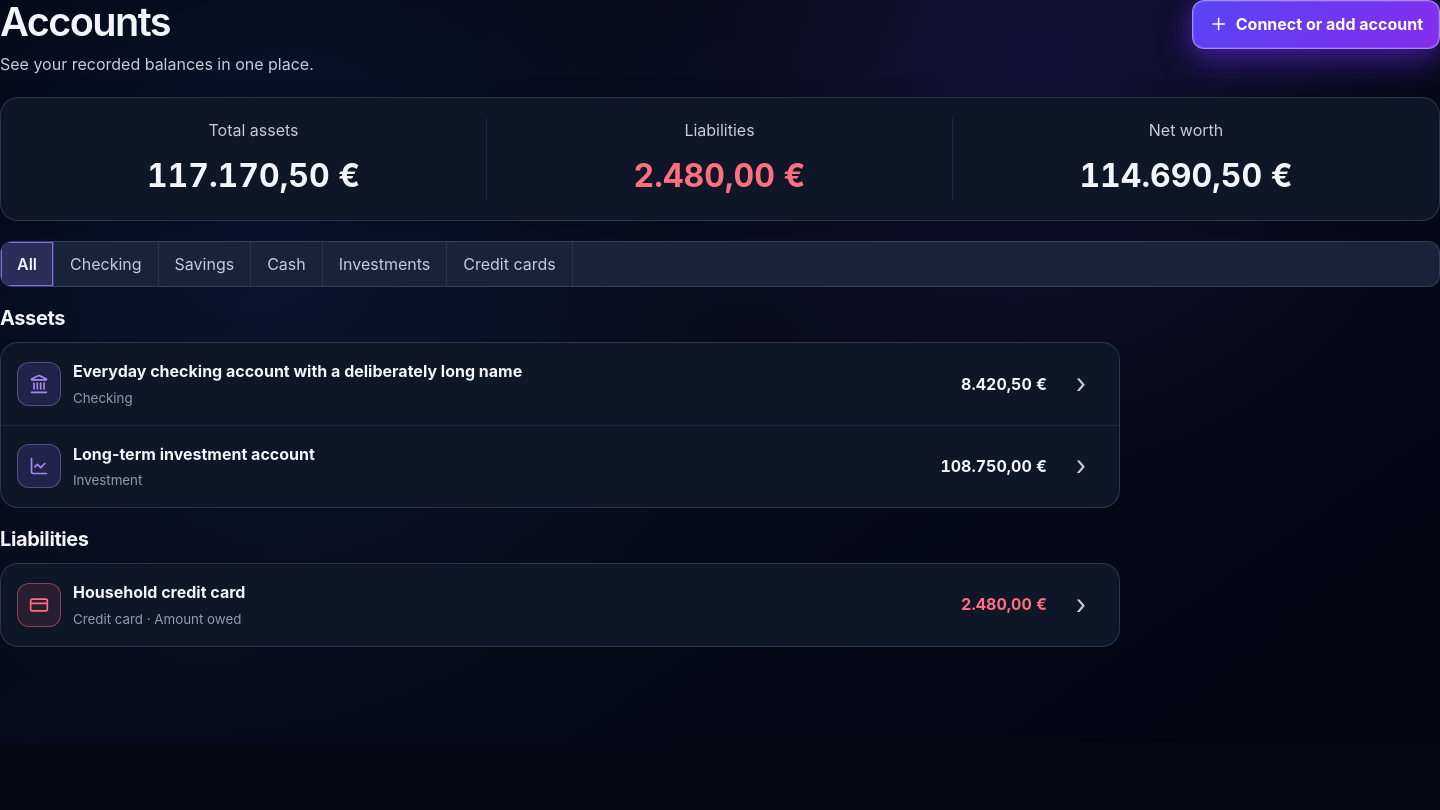
Test case: AccountsPage › renders genuine credit-card fields and future status
Click the button named "View details for Household credit card".
click(1081, 605)  # box [1059,583,1103,627]
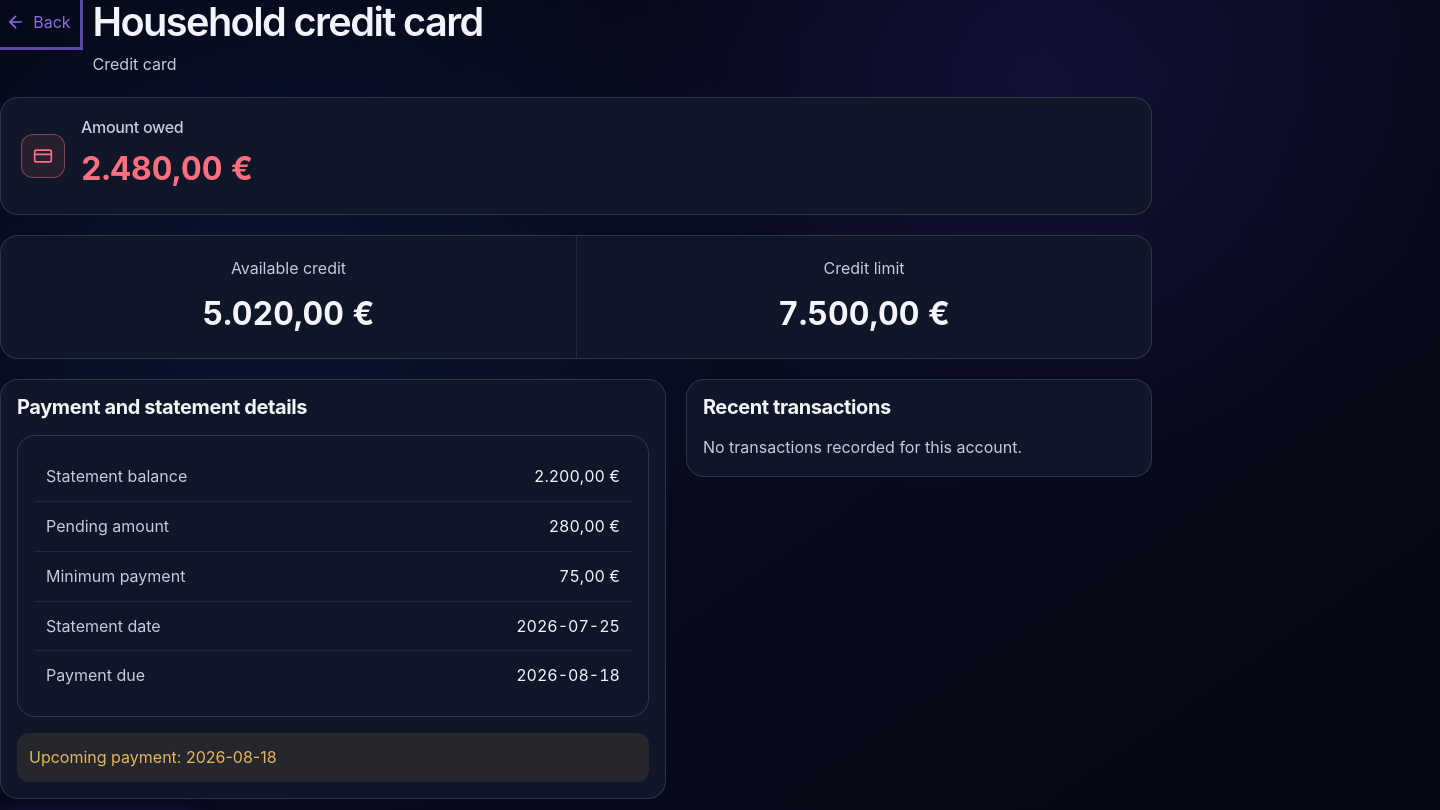
Expected: the heading "Amount owed" is shown, [81,117,183,137]
Result: the text "Available credit" is shown at [231,258,346,278]
Result: the text "Upcoming payment: 2026-08-18" is shown at [17,733,649,782]
